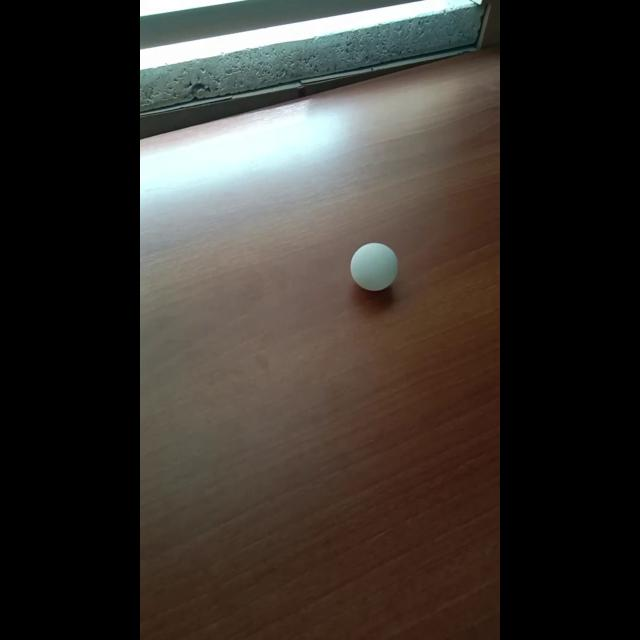white ball: (350, 241, 398, 291)
